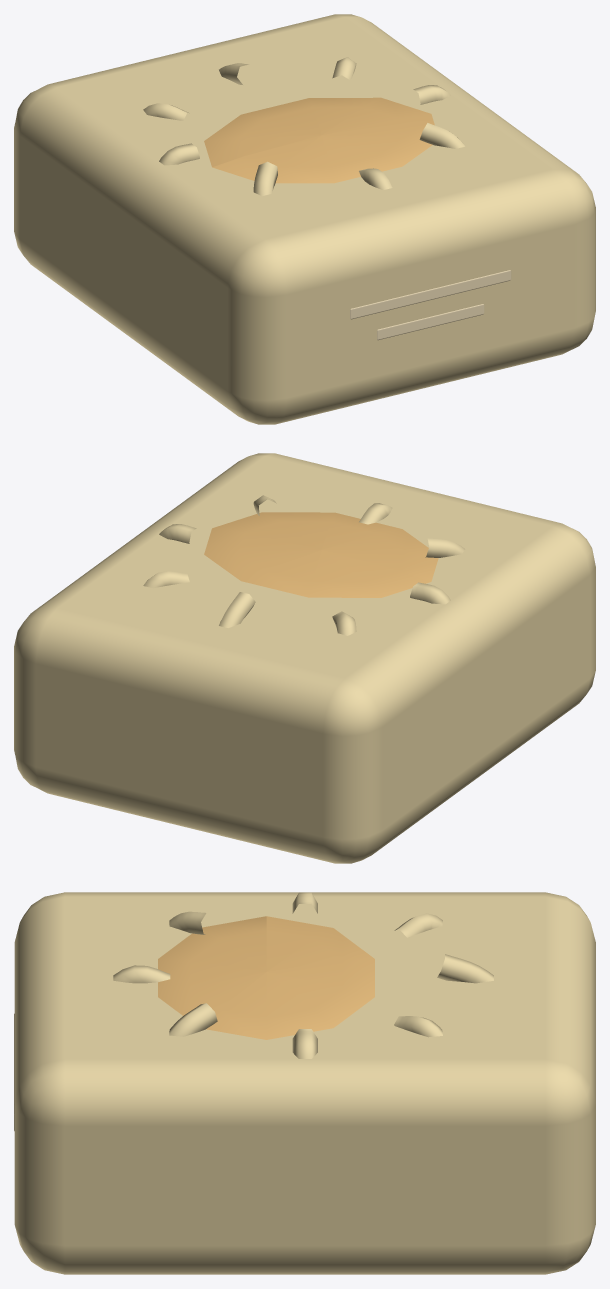
The model's file is torn-grain-bag-light.glb.
3 views of the same model, one above another, from view 1: azimuth 30°, elevation 25°; view 2: azimuth 150°, elevation 25°; view 3: azimuth 270°, elevation 25° (orthographic). The views are drawn at different scales.
Parts seen in each view (by area): view 1: cloth, crumb, cream; view 2: cloth, crumb; view 3: cloth, crumb.
Boxes of the visible parts, x1,y1,x2,y2 form: cloth: (14,14,595,424); crumb: (204,97,434,183); cream: (350,270,511,340); cloth: (14,453,595,863); crumb: (204,512,438,597); cloth: (14,892,595,1274); crumb: (158,916,374,1039).
Size of the model in its own units: 2.5 by 1.32 by 3.
